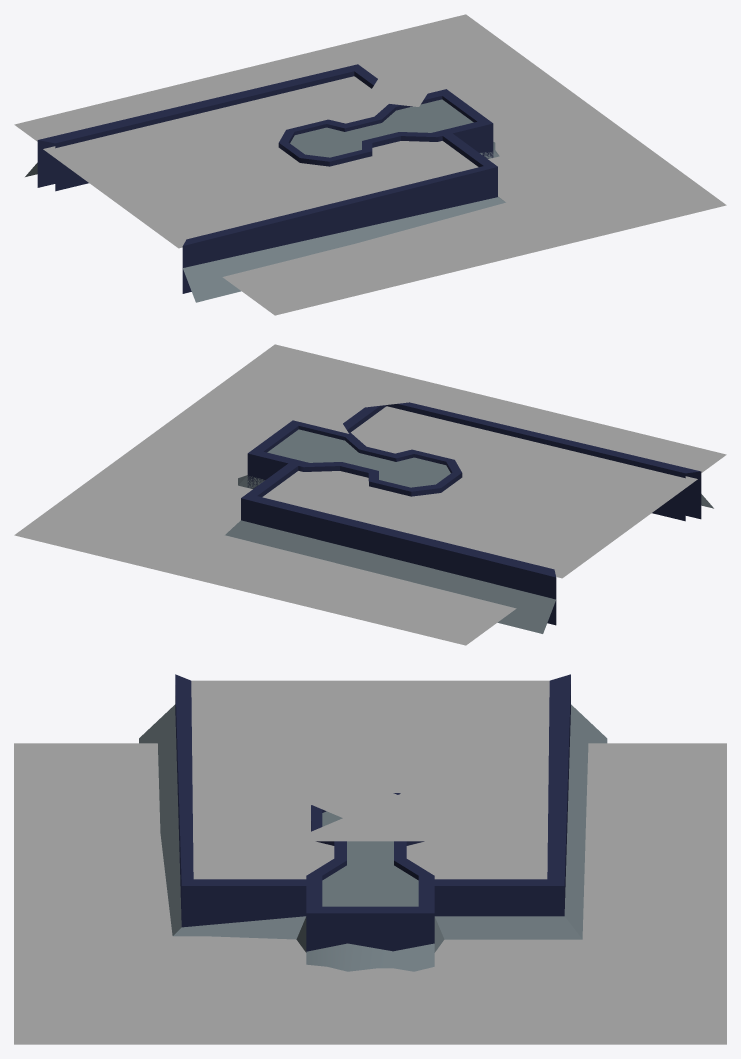
The model's file is NEW_N3_PreBoss.fbx.
The picture shows the model from 3 angles, top to bottom: view 1: azimuth 30°, elevation 25°; view 2: azimuth 150°, elevation 25°; view 3: azimuth 270°, elevation 25°; orthographic projection. The views are drawn at different scales.
Parts seen in each view (by area): view 1: Cesped2, Agua, StartRoom3, CespedBorde, Direccion; view 2: Cesped2, Agua, StartRoom3, CespedBorde, Direccion; view 3: Cesped2, Agua, StartRoom3, CespedBorde, Direccion.
Boxes of the visible parts, x1,y1,x2,y2 form: Cesped2: [14, 14, 726, 315]; Agua: [43, 76, 478, 248]; StartRoom3: [37, 64, 497, 293]; CespedBorde: [25, 142, 505, 302]; Direccion: [332, 34, 495, 106]; Cesped2: [14, 344, 726, 645]; Agua: [262, 406, 697, 578]; StartRoom3: [241, 402, 701, 625]; CespedBorde: [225, 475, 713, 633]; Direccion: [245, 365, 416, 433]; Cesped2: [14, 743, 726, 1044]; Agua: [191, 680, 549, 879]; StartRoom3: [175, 674, 570, 951]; CespedBorde: [139, 704, 607, 971]; Direccion: [261, 760, 452, 841].
Size of what is drawn, in the model's own units: 108 by 20.88 by 100.
